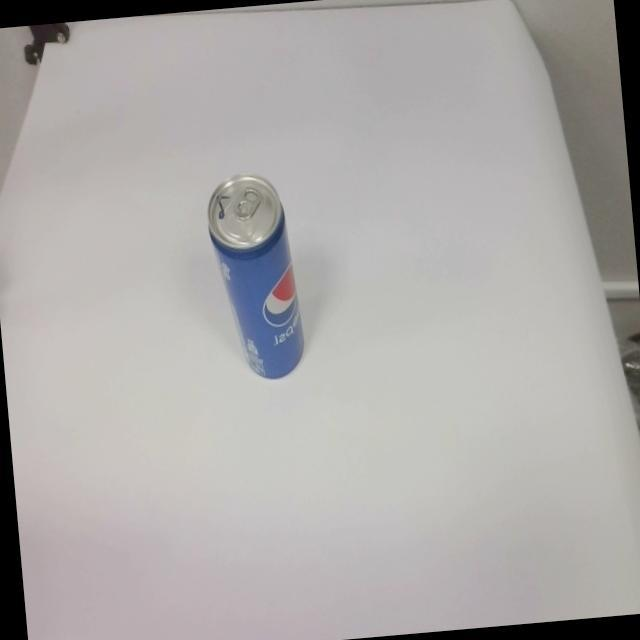debris: (201, 167, 307, 384)
